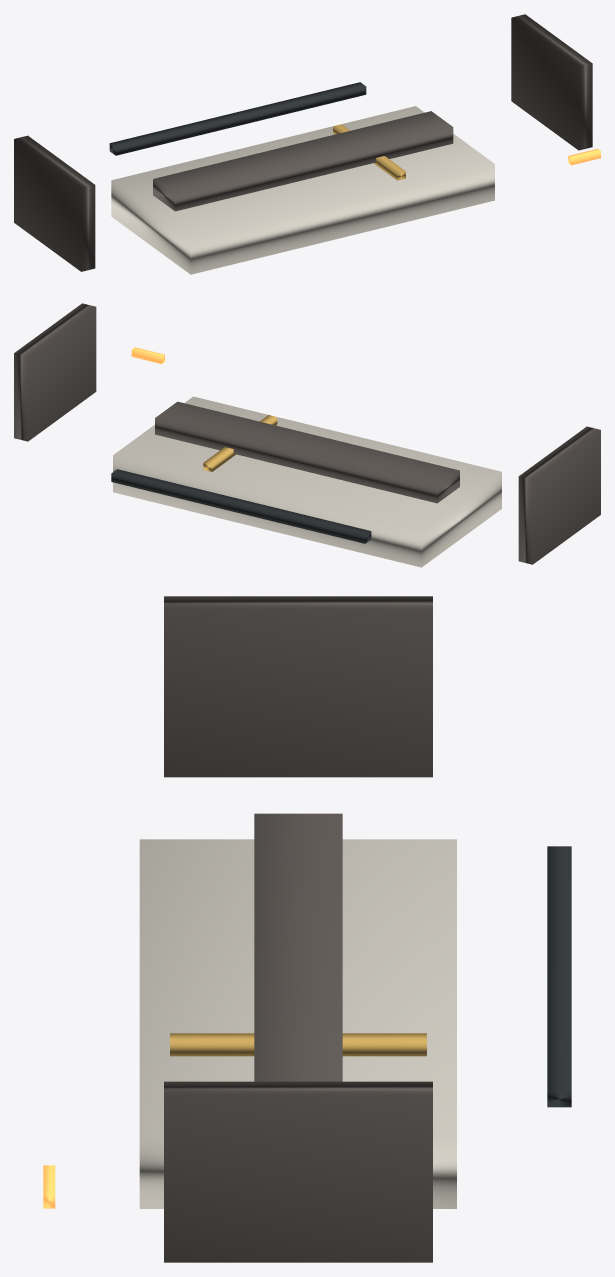
The model's file is solar-yard-ceramic-deck-lod1.glb.
The picture shows the model from 3 angles, top to bottom: view 1: azimuth 30°, elevation 25°; view 2: azimuth 150°, elevation 25°; view 3: azimuth 270°, elevation 25°; orthographic projection. The views are drawn at different scales.
Parts seen in each view (by area): view 1: solar-yard-ceramic-deck-main, solar-yard-ceramic-deck-underframe, solar-yard-ceramic-deck-edge-rail-right, solar-yard-ceramic-deck-edge-rail-left, solar-yard-ceramic-deck-radiator-strip, solar-yard-ceramic-deck-service-seam; view 2: solar-yard-ceramic-deck-main, solar-yard-ceramic-deck-underframe, solar-yard-ceramic-deck-edge-rail-left, solar-yard-ceramic-deck-edge-rail-right, solar-yard-ceramic-deck-radiator-strip, solar-yard-ceramic-deck-service-seam, solar-yard-ceramic-deck-status; view 3: solar-yard-ceramic-deck-main, solar-yard-ceramic-deck-edge-rail-left, solar-yard-ceramic-deck-edge-rail-right, solar-yard-ceramic-deck-underframe, solar-yard-ceramic-deck-radiator-strip, solar-yard-ceramic-deck-service-seam.
Boxes of the visible parts, left/top/right/bottom form: solar-yard-ceramic-deck-main: left=111, top=106, right=494, bottom=274; solar-yard-ceramic-deck-underframe: left=153, top=111, right=453, bottom=211; solar-yard-ceramic-deck-edge-rail-right: left=511, top=14, right=592, bottom=150; solar-yard-ceramic-deck-edge-rail-left: left=14, top=135, right=95, bottom=271; solar-yard-ceramic-deck-radiator-strip: left=109, top=82, right=366, bottom=155; solar-yard-ceramic-deck-service-seam: left=333, top=124, right=405, bottom=180; solar-yard-ceramic-deck-main: left=113, top=396, right=501, bottom=567; solar-yard-ceramic-deck-underframe: left=155, top=401, right=459, bottom=503; solar-yard-ceramic-deck-edge-rail-left: left=518, top=426, right=600, bottom=564; solar-yard-ceramic-deck-edge-rail-right: left=14, top=303, right=96, bottom=441; solar-yard-ceramic-deck-radiator-strip: left=111, top=469, right=371, bottom=543; solar-yard-ceramic-deck-service-seam: left=203, top=415, right=277, bottom=471; solar-yard-ceramic-deck-status: left=131, top=347, right=164, bottom=363; solar-yard-ceramic-deck-main: left=139, top=839, right=456, bottom=1208; solar-yard-ceramic-deck-edge-rail-left: left=164, top=596, right=432, bottom=777; solar-yard-ceramic-deck-edge-rail-right: left=164, top=1081, right=432, bottom=1262; solar-yard-ceramic-deck-underframe: left=254, top=813, right=342, bottom=1081; solar-yard-ceramic-deck-radiator-strip: left=547, top=846, right=571, bottom=1107; solar-yard-ceramic-deck-service-seam: left=170, top=1033, right=426, bottom=1056.
Bounding box in the file's own units: 5.88 × 1.18 × 2.63.
